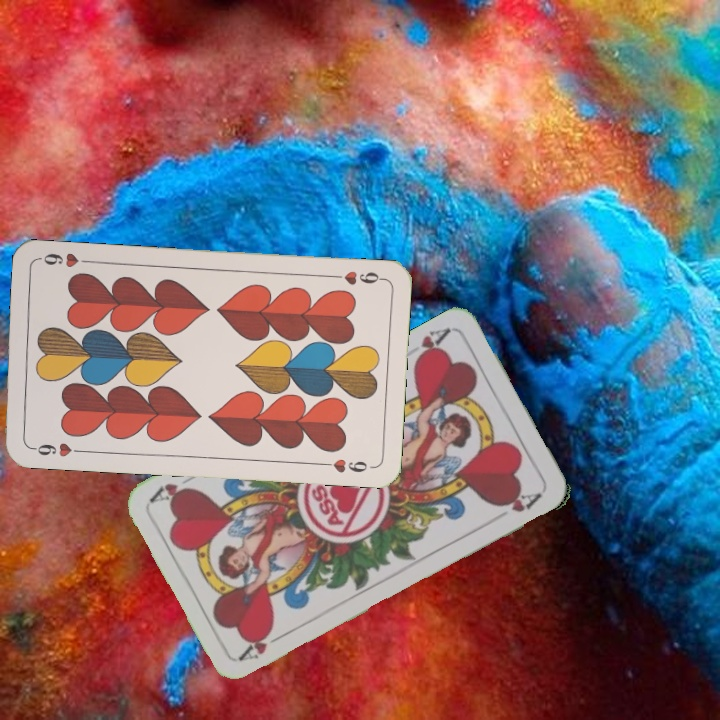H9: (26, 438, 85, 460), (327, 267, 386, 288)
HA: (236, 627, 291, 664), (410, 323, 454, 367)
